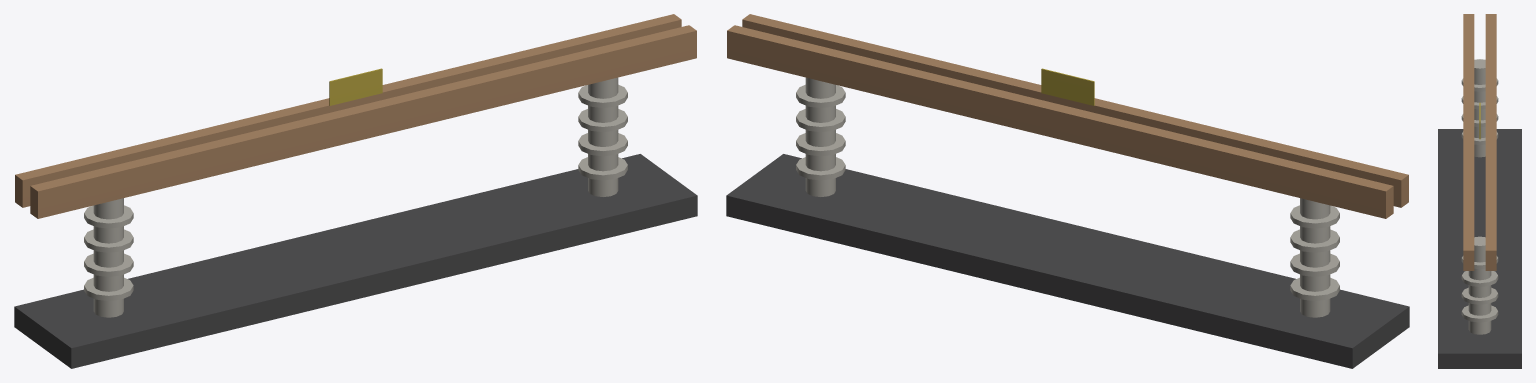
File: lzBus2_steel.glb
The picture shows the model from 3 angles, left to right: view 1: azimuth 30°, elevation 25°; view 2: azimuth 150°, elevation 25°; view 3: azimuth 270°, elevation 25°; orthographic projection. The views are drawn at different scales.
Parts seen in each view (by area): view 1: lzBus2_steel; view 2: lzBus2_steel; view 3: lzBus2_steel.
Part boxes in pixels (left/top/right/bottom): lzBus2_steel: left=14, top=14, right=697, bottom=368; lzBus2_steel: left=726, top=14, right=1409, bottom=368; lzBus2_steel: left=1438, top=14, right=1521, bottom=368.
Size of the model in its own units: 2 by 0.57 by 0.3.
